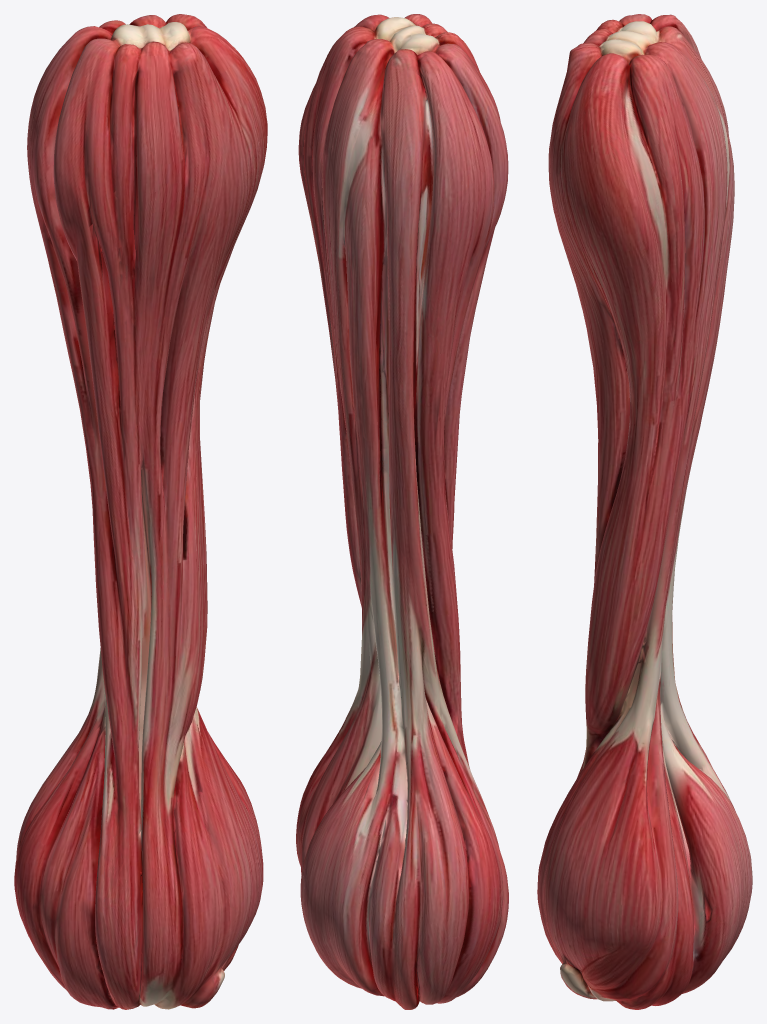
File: triceps.glb
3 views of the same model, side by side, from view 1: azimuth 30°, elevation 25°; view 2: azimuth 150°, elevation 25°; view 3: azimuth 270°, elevation 25° (orthographic). The views are drawn at different scales.
Parts seen in each view (by area): view 1: triceps; view 2: triceps; view 3: triceps.
Part boxes in pixels (<box>): triceps: <box>14,14,267,1009</box>; triceps: <box>296,14,508,1009</box>; triceps: <box>537,14,752,1009</box>.
Bounding box in the file's own units: 0.2358 × 1 × 0.2031.
1 material, 1 textured.
